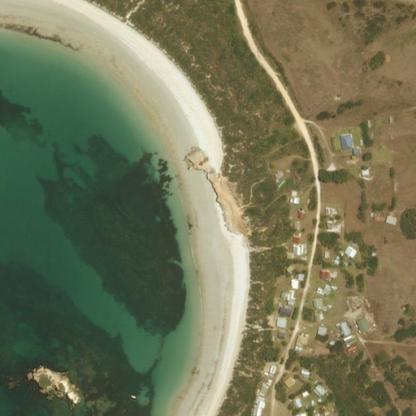ship: (130, 394, 135, 398)
